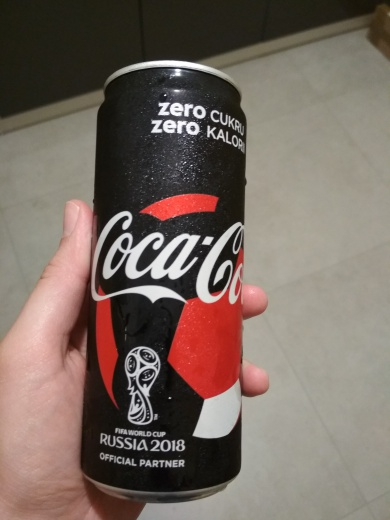colazero: (58, 47, 248, 506)
